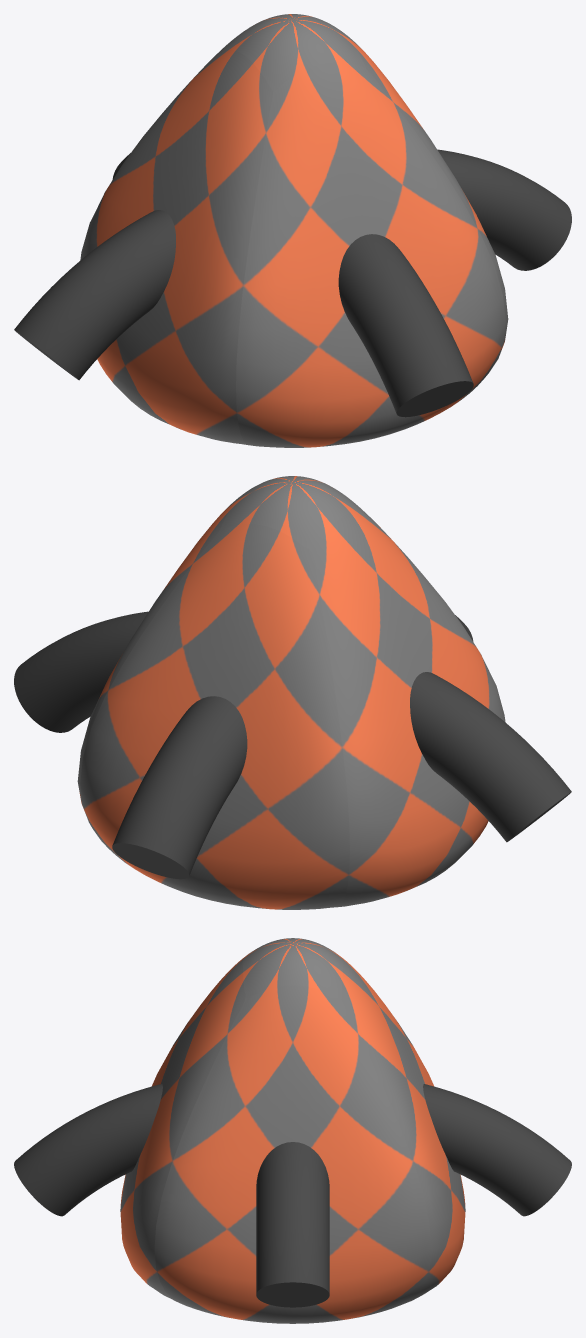
Rendered from Body(Pyramidal)+Colour(More_Orange)+Pattern(Diamond)+Arm_Angle(Bent_Down).fbx.
3 renders of one model, top to bottom at view 1: azimuth 30°, elevation 25°; view 2: azimuth 150°, elevation 25°; view 3: azimuth 270°, elevation 25°, orthographic. The views are drawn at different scales.
Parts seen in each view (by area): view 1: Body(Pyramidal)+Colour(More_Orange)+Pattern(Diamond)+Arm_Ang (×4); view 2: Body(Pyramidal)+Colour(More_Orange)+Pattern(Diamond)+Arm_Ang (×4); view 3: Body(Pyramidal)+Colour(More_Orange)+Pattern(Diamond)+Arm_Ang (×4).
Boxes of the visible parts, x1=… form: Body(Pyramidal)+Colour(More_Orange)+Pattern(Diamond)+Arm_Ang (×4): x1=14, y1=14, x2=571, y2=447; Body(Pyramidal)+Colour(More_Orange)+Pattern(Diamond)+Arm_Ang (×4): x1=14, y1=476, x2=571, y2=909; Body(Pyramidal)+Colour(More_Orange)+Pattern(Diamond)+Arm_Ang (×4): x1=14, y1=938, x2=571, y2=1323.
Size of the model in its own units: 60.67 by 40 by 60.67.
2 materials, 2 textured.
